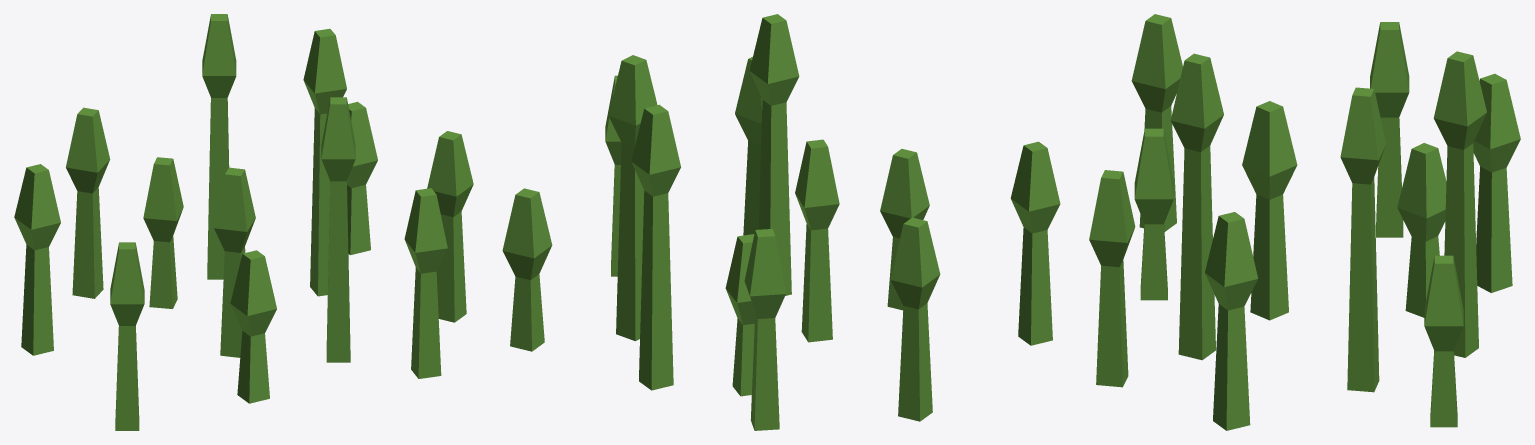
The model's file is crops_wheatStageA.glb.
3 renders of one model, left to right at view 1: azimuth 30°, elevation 25°; view 2: azimuth 150°, elevation 25°; view 3: azimuth 270°, elevation 25°, orthographic. The views are drawn at different scales.
Visible parts, largest first — view 1: crops_wheatStageA; view 2: crops_wheatStageA; view 3: crops_wheatStageA.
Boxes of the visible parts, x1=… form: crops_wheatStageA: x1=14, y1=14, x2=473, y2=430; crops_wheatStageA: x1=502, y1=14, x2=1060, y2=430; crops_wheatStageA: x1=1089, y1=14, x2=1520, y2=430.
Size of the model in its own units: 0.5396 by 0.3349 by 0.4467.
